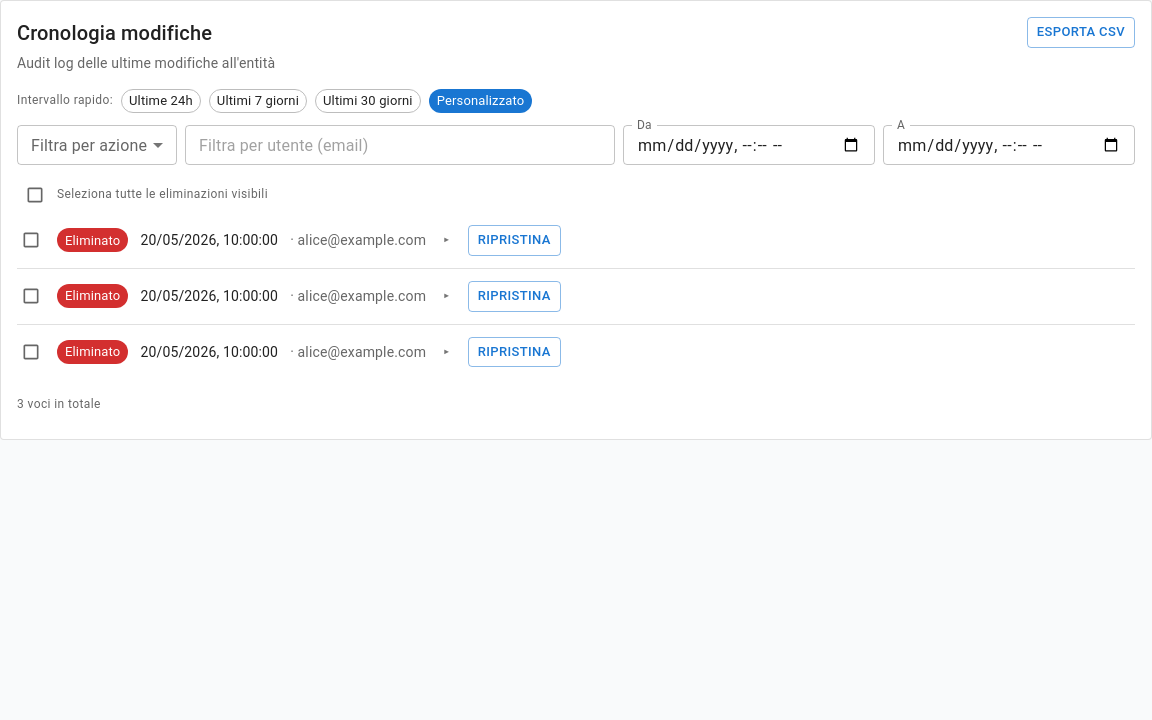
Test case: AuditHistoryPanel › bulk revert: partial-failure shows count summary warning toast
This screenshot has width=1152, height=720.
Expected: the text "Eliminato" is shown 3 times, [65,233,120,248]; [65,288,120,303]; [65,344,120,359]
What coordinates should you click on to do the following:
click the checkbox named "Seleziona voce di cronologia Trait:trait-1"
I would click on:
 (31, 240)
Its box is [21,230,41,250].
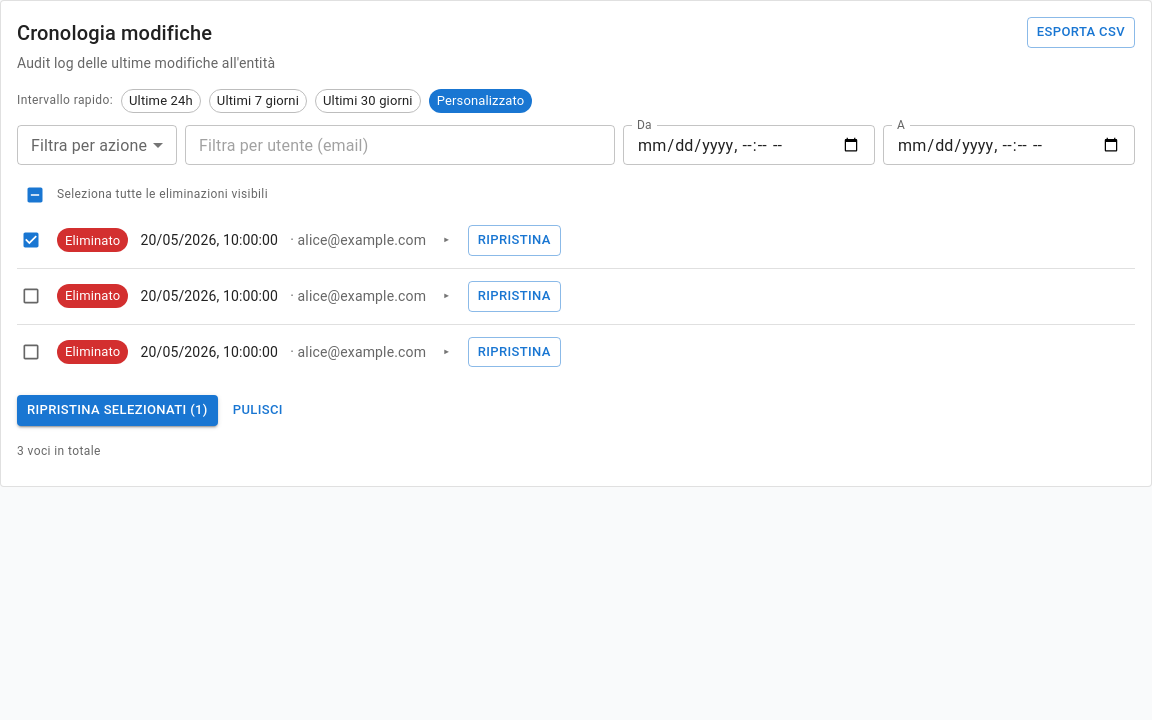
What coordinates should you click on to do the following:
click the checkbox named "Seleziona voce di cronologia Trait:trait-2"
I would click on:
 (31, 296)
Its box is [21,286,41,306].
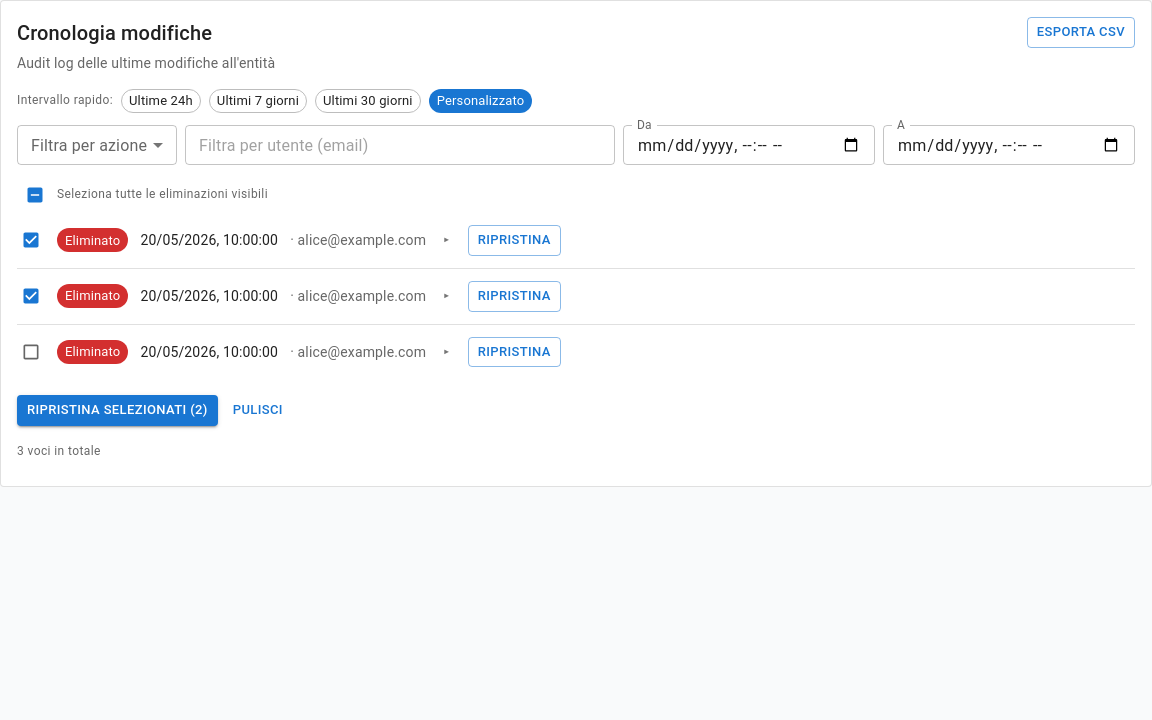
What coordinates should you click on to do the following:
click the checkbox named "Seleziona voce di cronologia Trait:trait-3"
I would click on:
 (31, 352)
Its box is [21,342,41,362].
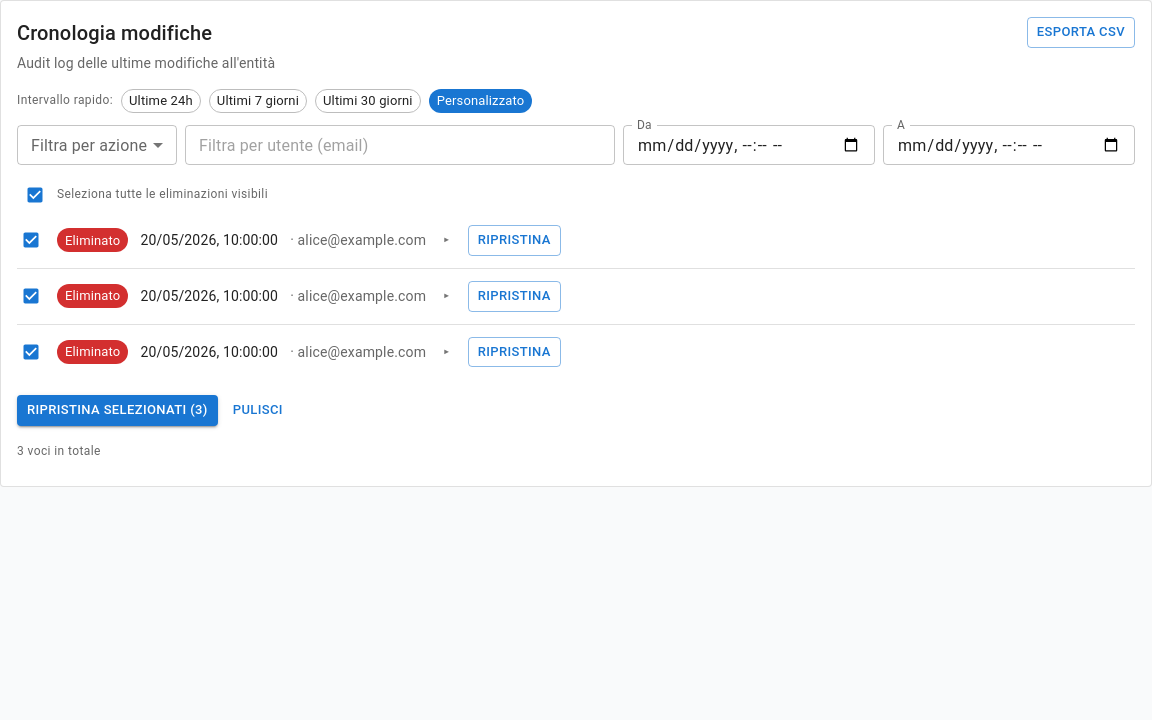
What coordinates should you click on to do the following:
click the button "Ripristina selezionati (3)"
I would click on:
 (117, 411)
Its box is [17,395,218,426].
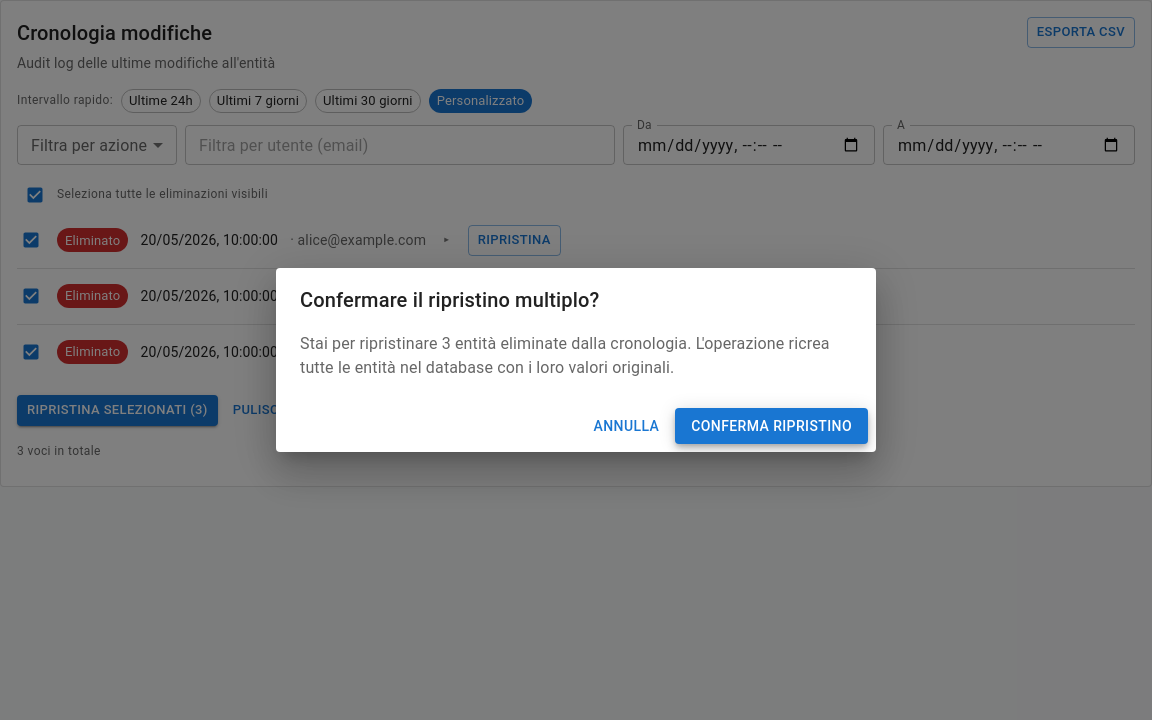
Expected: the heading "Confermare il ripristino multiplo?" is shown, [300,288,599,312]
What coordinates should you click on to do the following:
click the button "Conferma ripristino"
I would click on:
 (772, 426)
Its box is [675,408,868,444].
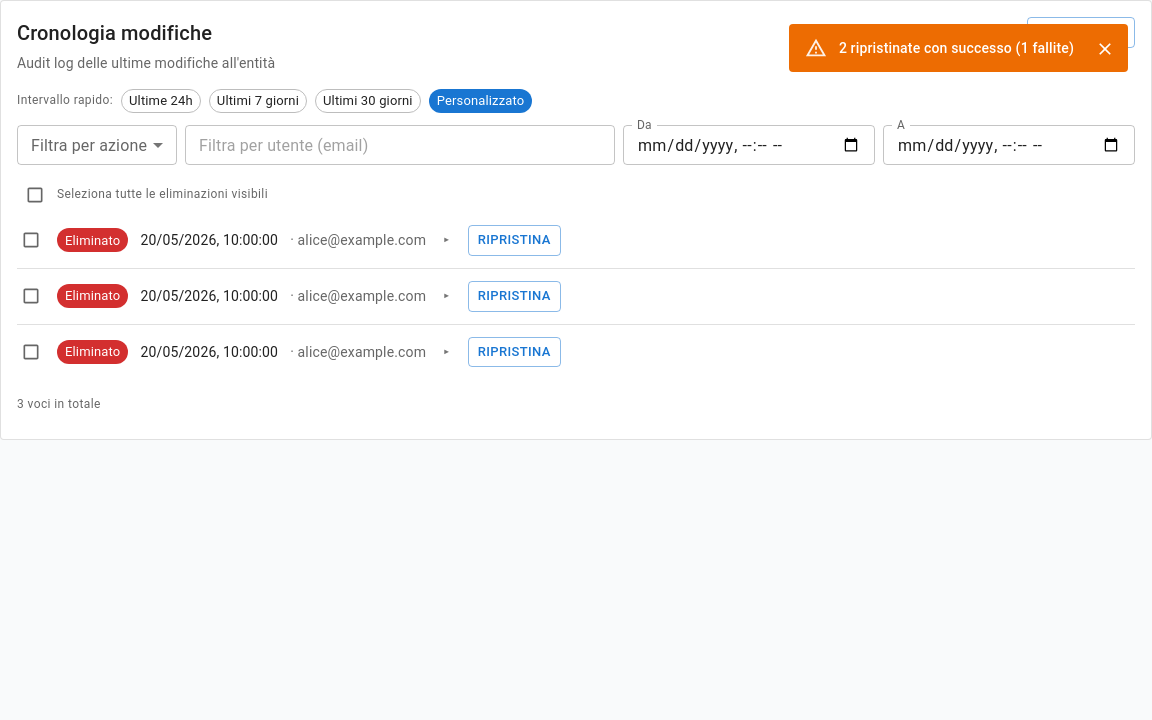
Expected: the text "2 ripristinate con successo (1 fallite)" is shown, [839,40,1074,56]
